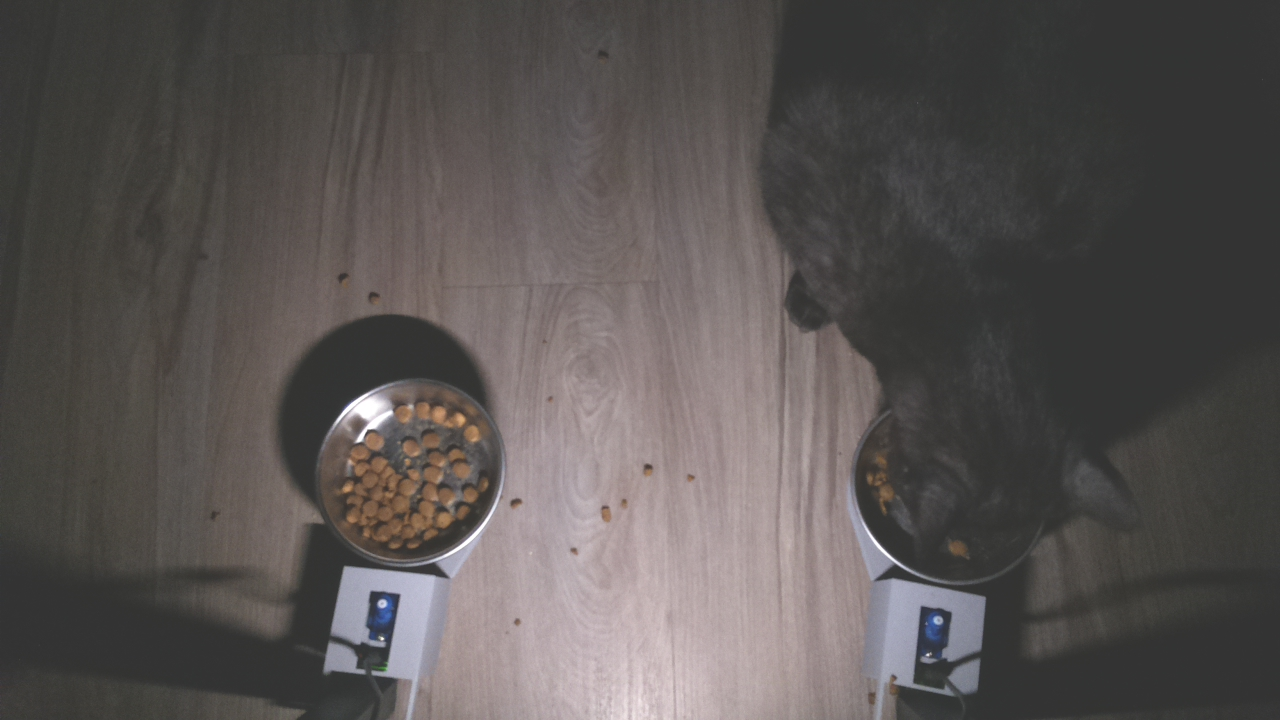open_bowl: (312, 371, 507, 569)
saki_eating: (832, 347, 1164, 597)
